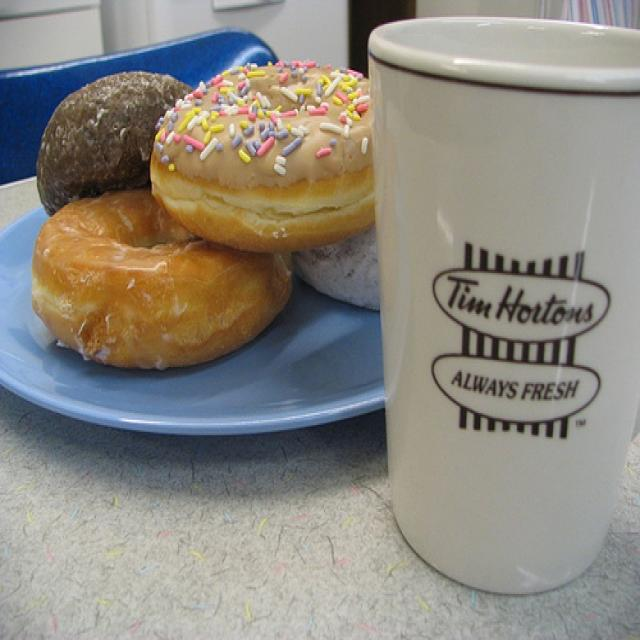chair: (0, 26, 277, 192)
dining table: (0, 177, 640, 631)
